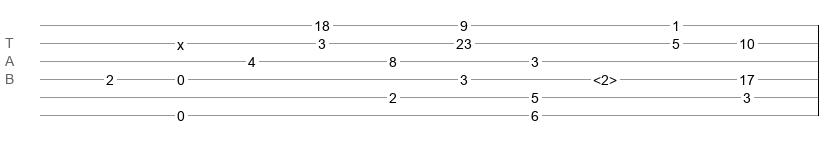0: (177, 72, 185, 82), (177, 108, 185, 118)
1: (672, 18, 680, 28)
10: (739, 36, 755, 46)
17: (739, 72, 755, 82)
18: (314, 18, 330, 28)
2: (106, 72, 114, 82), (389, 90, 397, 100)
23: (456, 36, 472, 46)
3: (318, 36, 326, 46), (460, 72, 468, 82), (531, 54, 539, 64), (743, 90, 751, 100)
4: (248, 54, 256, 64)
5: (531, 90, 539, 100), (672, 36, 680, 46)
6: (531, 108, 539, 118)
8: (389, 54, 397, 64)
9: (460, 18, 468, 28)
harmonic: (593, 72, 617, 82)
x: (177, 37, 184, 45)
